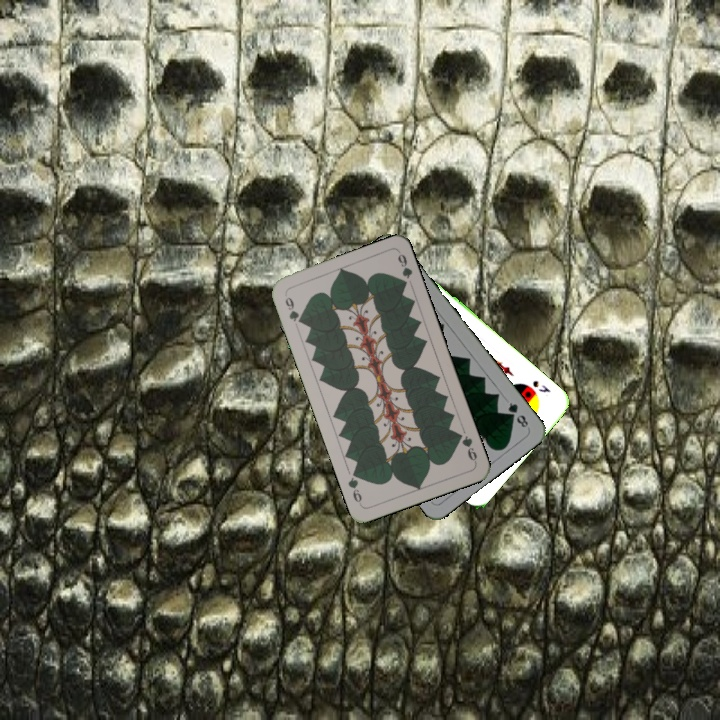G8: (504, 398, 531, 430)
G9: (453, 429, 480, 466), (281, 293, 305, 327)
SK: (529, 376, 553, 395)
